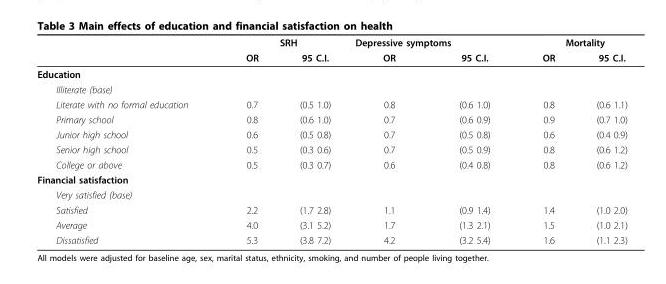table: (36, 36, 626, 245)
table column: (36, 36, 216, 245), (426, 36, 515, 245), (342, 36, 426, 245), (278, 36, 342, 245), (216, 36, 278, 245), (515, 36, 575, 245), (575, 36, 626, 245)
table column header: (36, 36, 626, 65)
table projected row header: (36, 65, 626, 81), (36, 171, 626, 187), (36, 81, 626, 96), (36, 187, 626, 202)
table row: (36, 49, 626, 65), (36, 65, 626, 81), (36, 171, 626, 187), (36, 81, 626, 96), (36, 96, 626, 111), (36, 111, 626, 126), (36, 126, 626, 141), (36, 141, 626, 156), (36, 156, 626, 171), (36, 187, 626, 202), (36, 202, 626, 217), (36, 217, 626, 232), (36, 36, 626, 49), (36, 232, 626, 245)
table spanning cell: (342, 36, 515, 49), (216, 36, 342, 49), (515, 36, 626, 49)
